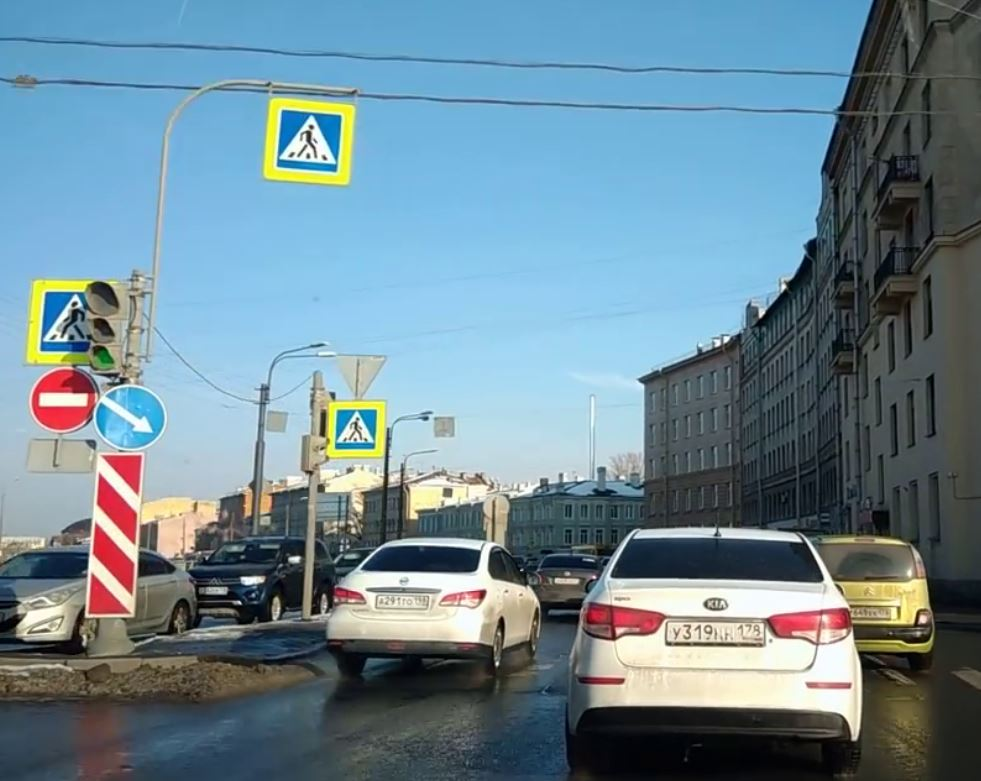Sagdan Git: (95, 381, 181, 452)
Yaya Gecidi: (281, 107, 340, 170), (42, 290, 92, 357), (331, 409, 380, 444)
